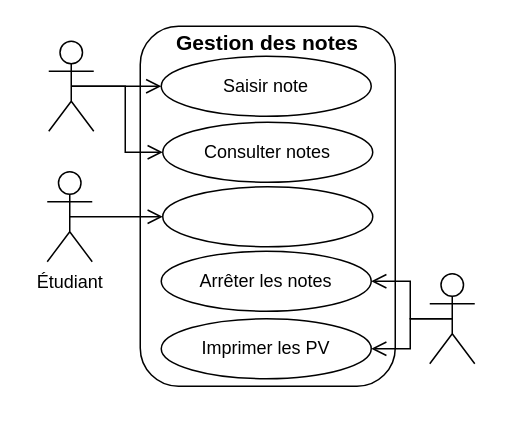
Some shapes in this 521 by 425 pixel diagram are drawn without their labels. Each missing label, with the centre of its shape:
Consulter ses notes: the point at 267,216
Enseignant: the point at 70,85
Secrétariat: the point at 451,318
